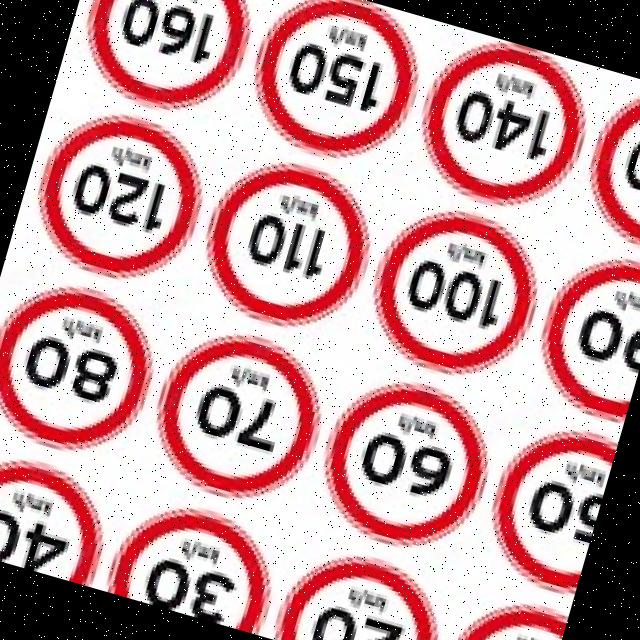speed_limit_100: (353, 192, 561, 399)
speed_limit_120: (13, 92, 220, 302)
speed_limit_20: (273, 537, 462, 640)
speed_limit_30: (104, 485, 291, 636)
speed_limit_50: (476, 412, 618, 600)
speed_limit_60: (303, 358, 509, 572)
speed_limit_70: (140, 312, 341, 519)
speed_limit_80: (0, 262, 171, 472)
